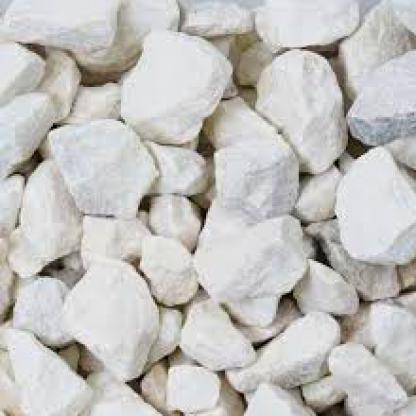Metamorphic_Marble: (123, 11, 234, 152), (61, 250, 172, 382), (200, 204, 314, 322), (251, 38, 348, 174), (53, 108, 161, 229), (333, 141, 415, 273), (2, 312, 98, 414), (324, 333, 412, 414), (2, 80, 62, 168)
